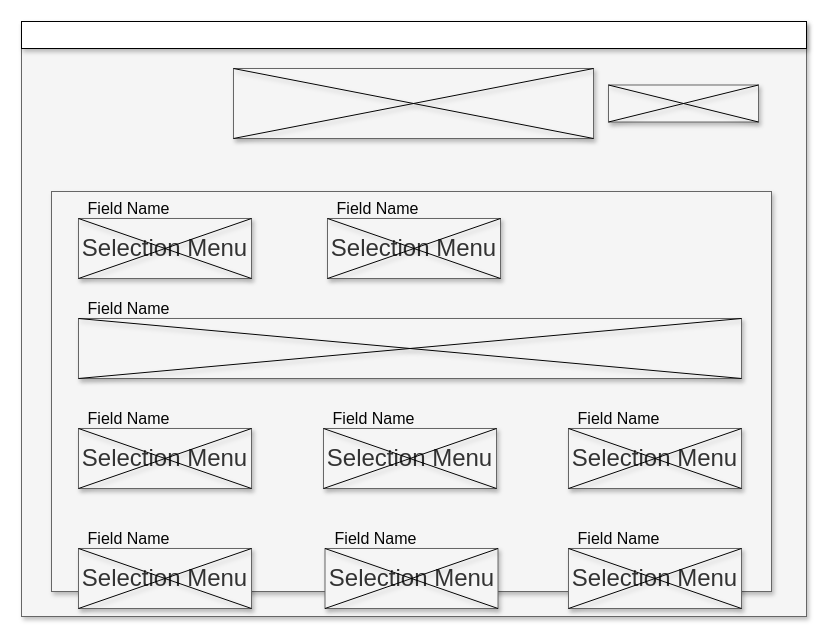
Image size: 830x641. Some labels were removed from this diagram. The centre of each missing label's shape, as x and y in pixels:
"Save Button" belongs at point 684,104.
"Text Area" belongs at point 411,350.
"Title" belongs at point 414,105.
